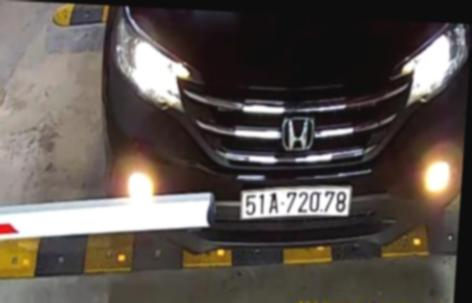License_Plate: (240, 173, 354, 234)
